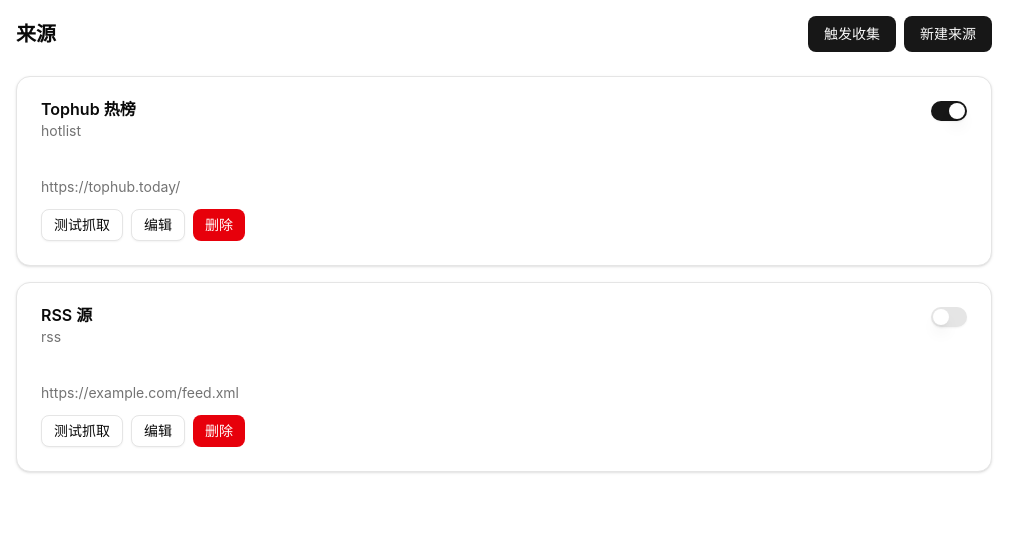
it: SourcesPage › shows a hint about linked hot items when deleting a source fails with 409
Expected: the text "RSS 源" is shown, [41,307,92,323]
Click the button "删除" below "https://example.com/feed.xml": (219, 431) [193,415,245,447]
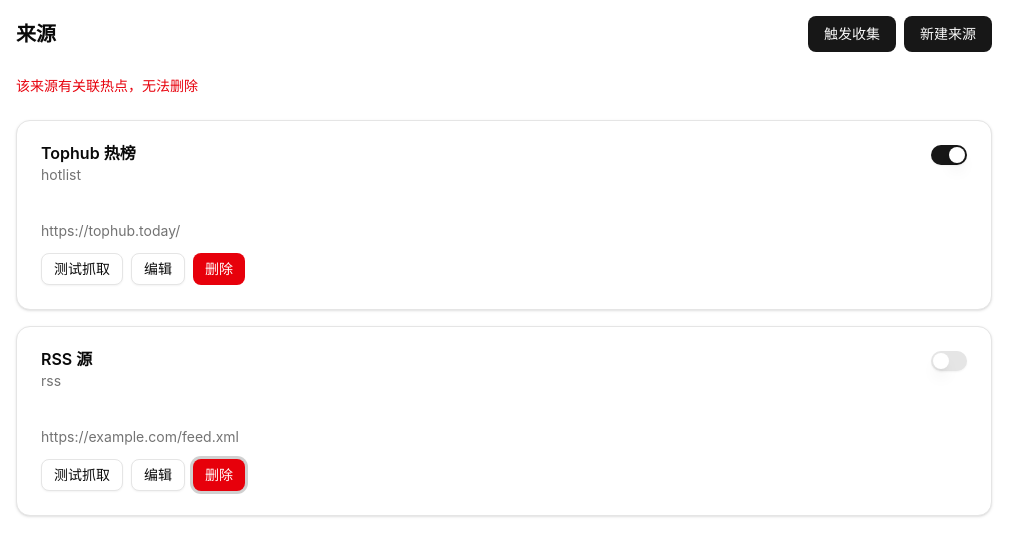
Expected: the text "该来源有关联热点，无法删除" is shown, [16,77,198,94]
